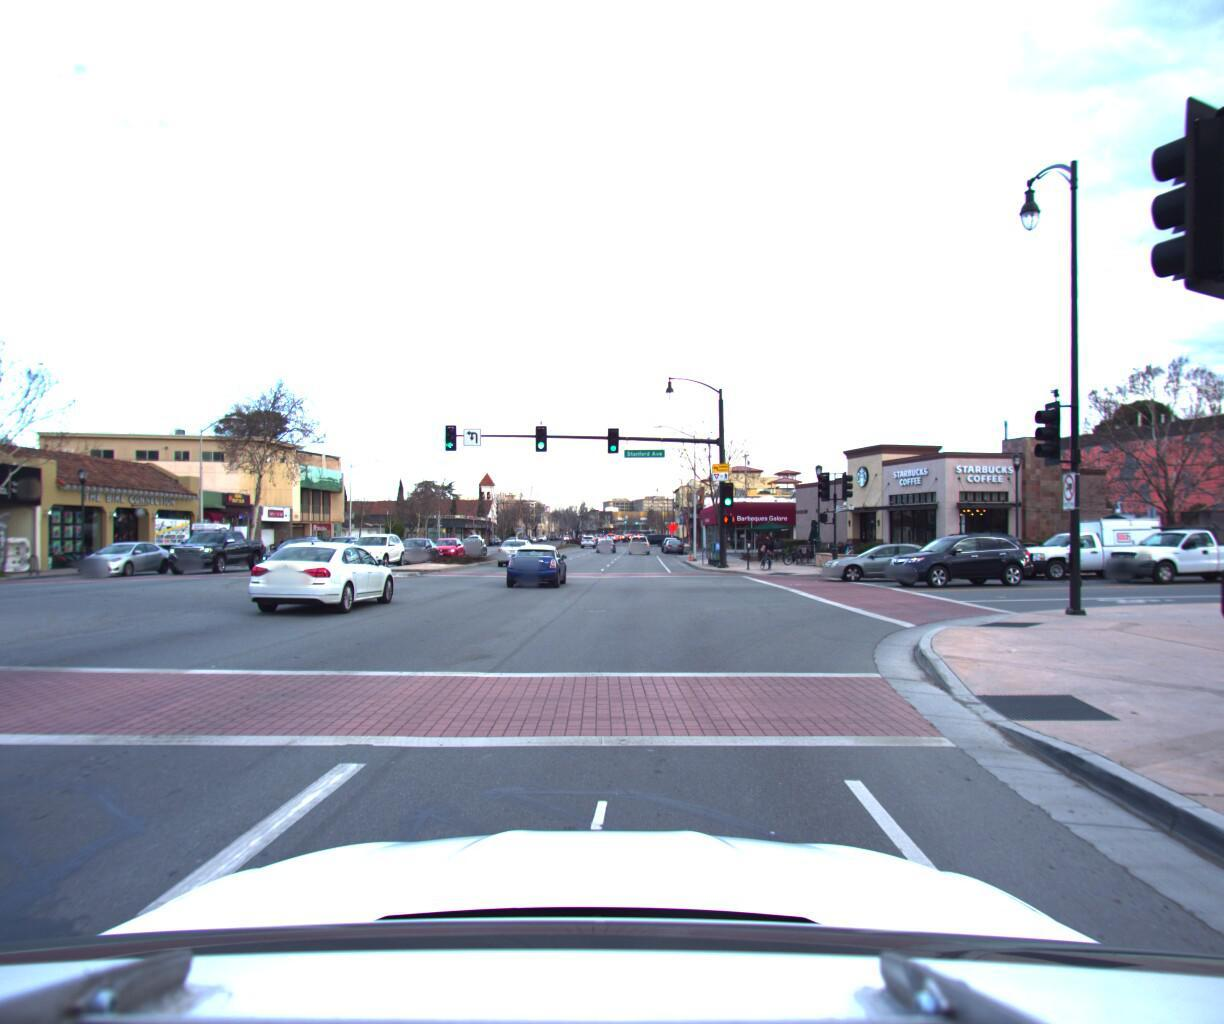bicycle: (753, 524, 773, 562), (776, 536, 809, 556)
car: (238, 538, 400, 621), (871, 524, 1036, 582), (1085, 513, 1224, 578), (817, 534, 952, 576), (162, 523, 272, 570), (176, 511, 261, 561), (69, 533, 175, 573), (257, 530, 342, 567), (505, 535, 572, 582), (339, 523, 411, 565), (1183, 529, 1224, 568), (388, 529, 442, 557), (493, 530, 537, 560), (425, 528, 469, 553), (453, 528, 489, 550), (628, 528, 651, 548), (593, 527, 617, 544), (661, 530, 682, 545)
truck: (992, 507, 1165, 574)
